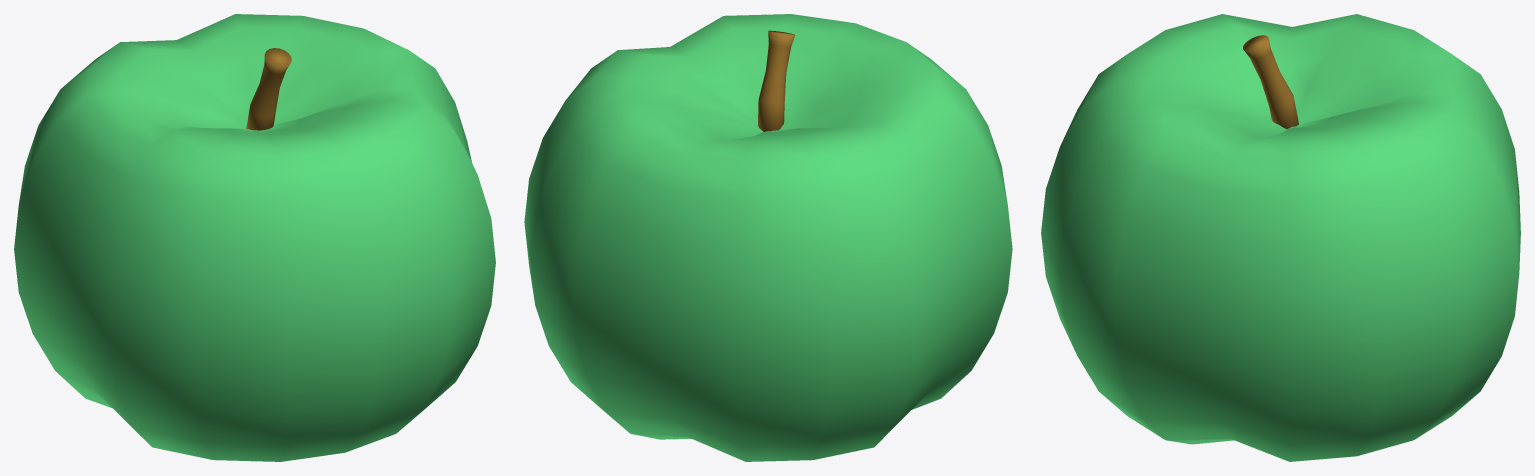
The model's file is Apple2.fbx.
The picture shows the model from 3 angles, left to right: view 1: azimuth 30°, elevation 25°; view 2: azimuth 150°, elevation 25°; view 3: azimuth 270°, elevation 25°; orthographic projection.
Parts seen in each view (by area): view 1: Cylinder; view 2: Cylinder; view 3: Cylinder.
Boxes of the visible parts, x1,y1,x2,y2 form: Cylinder: (14, 14, 495, 461); Cylinder: (524, 14, 1012, 461); Cylinder: (1041, 14, 1520, 461).
Bounding box in the file's own units: 367 × 366 × 313.
